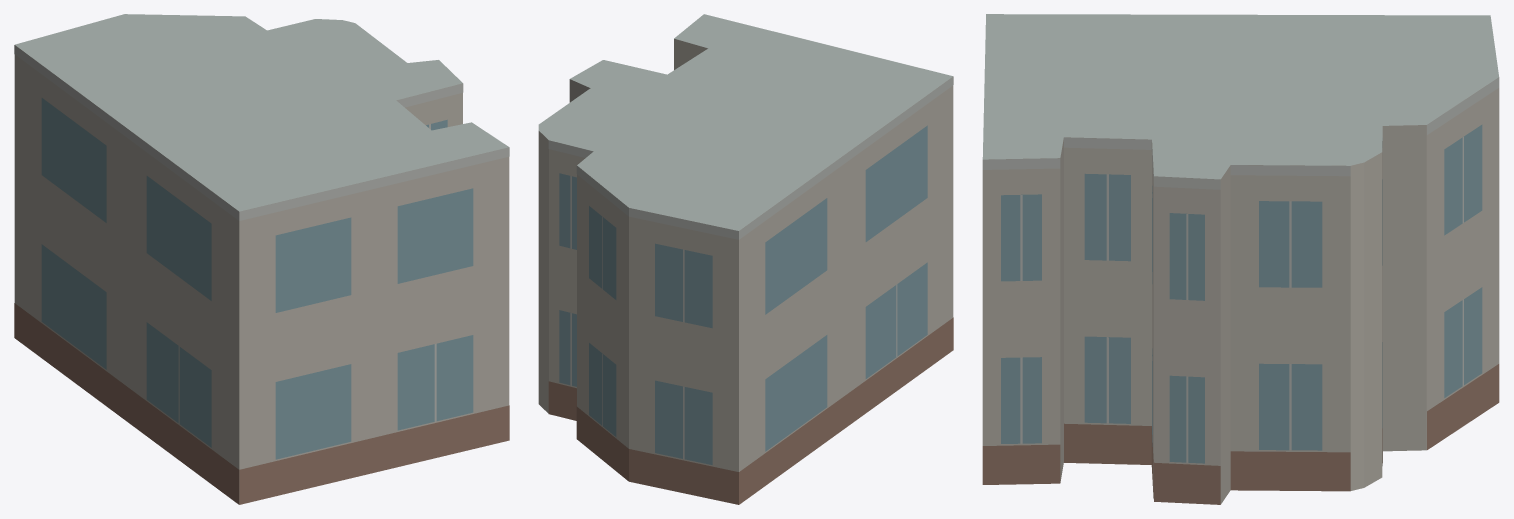
File: survey-upis-33011914.glb
3 renders of one model, left to right at view 1: azimuth 30°, elevation 25°; view 2: azimuth 150°, elevation 25°; view 3: azimuth 270°, elevation 25°, orthographic. The views are drawn at different scales.
Parts seen in each view (by area): view 1: survey-upis-33011914.tmp; view 2: survey-upis-33011914.tmp; view 3: survey-upis-33011914.tmp.
Boxes of the visible parts, bbox=[...] form: survey-upis-33011914.tmp: bbox=[14, 14, 509, 504]; survey-upis-33011914.tmp: bbox=[538, 14, 953, 504]; survey-upis-33011914.tmp: bbox=[982, 14, 1499, 504].
Size of the model in its own units: 8.29 by 7.6 by 10.94.
